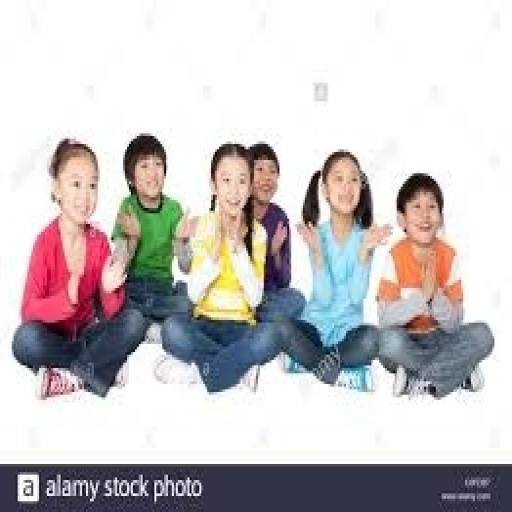clapping: (10, 136, 146, 403), (158, 138, 284, 394), (376, 171, 496, 400), (281, 147, 391, 389), (108, 131, 192, 344)
